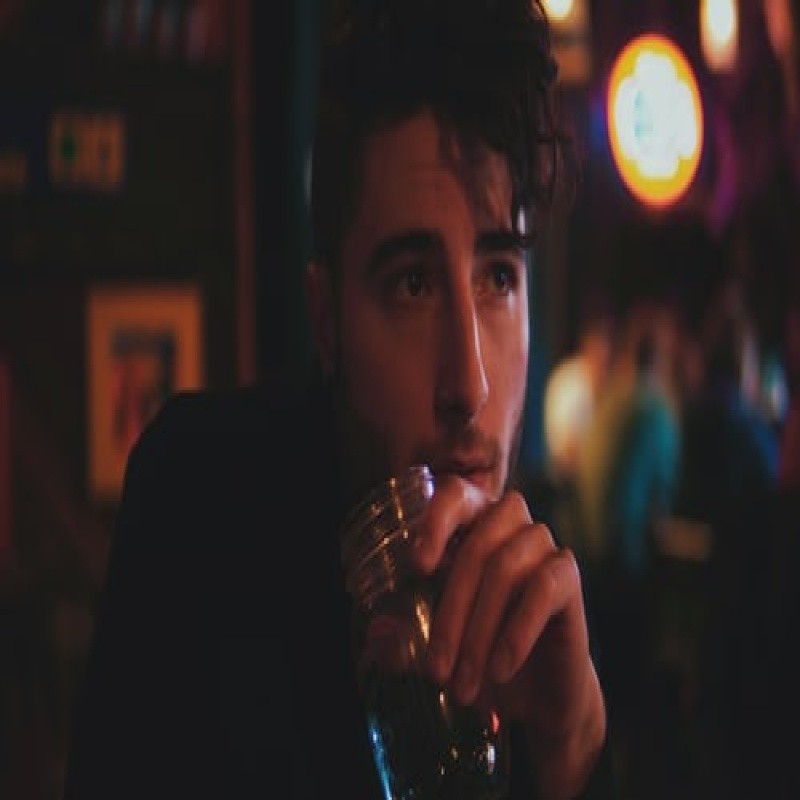whiskey: (320, 493, 510, 799)
